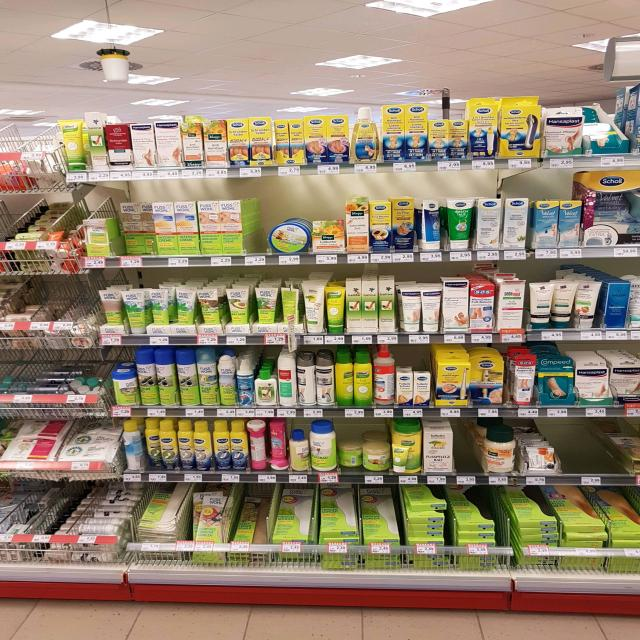void: (460, 420, 485, 485), (242, 194, 265, 264), (566, 416, 585, 483), (588, 419, 605, 484)
